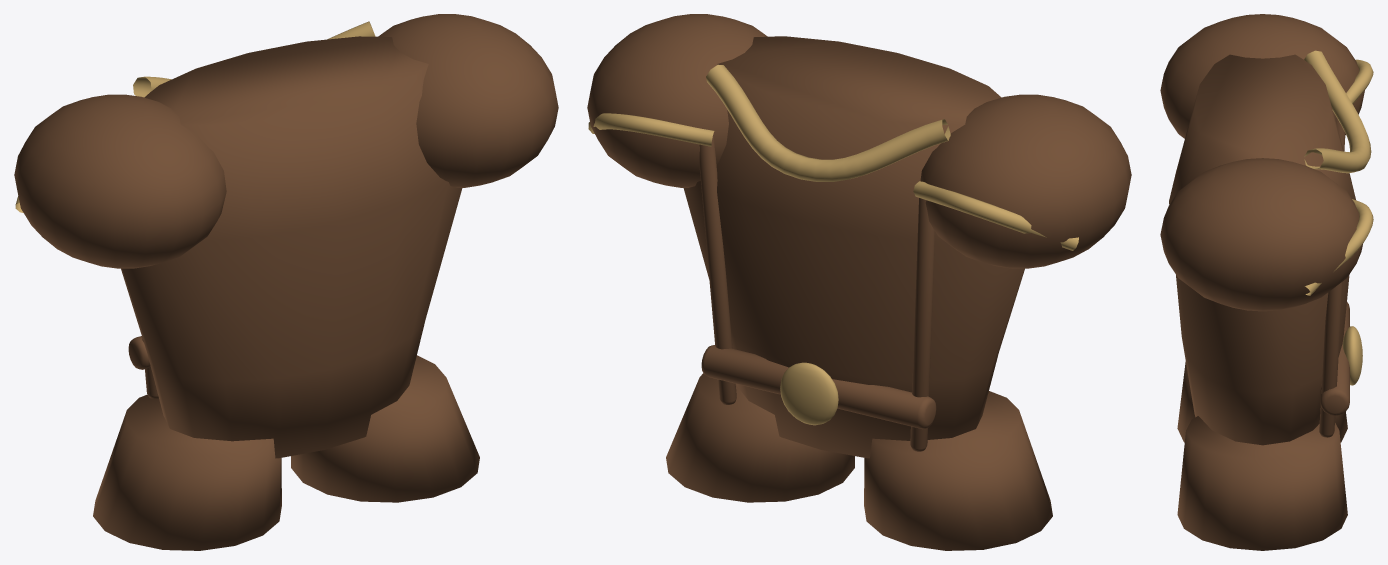
The model's file is leather_vest.glb.
The picture shows the model from 3 angles, left to right: view 1: azimuth 30°, elevation 25°; view 2: azimuth 150°, elevation 25°; view 3: azimuth 270°, elevation 25°; orthographic projection. The views are drawn at different scales.
Parts seen in each view (by area): view 1: Shaped breastplate, Layered pauldron, Layered pauldron.001, Laminated hip guard, Laminated hip guard.001, Neckline; view 2: Shaped breastplate, Layered pauldron, Laminated hip guard, Layered pauldron.001, Laminated hip guard.001, Neckline, Waist belt, Leather fastening.001, Leather fastening, Sunburst clasp, Pauldron trim, Pauldron trim.001; view 3: Shaped breastplate, Layered pauldron.001, Laminated hip guard.001, Layered pauldron, Neckline, Leather fastening.001, Waist belt, Laminated hip guard, Pauldron trim.001, Sunburst clasp, Pauldron trim.
Boxes of the visible parts, x1,y1,x2,y2 form: Shaped breastplate: [121, 36, 462, 458]; Layered pauldron: [14, 94, 226, 268]; Layered pauldron.001: [378, 14, 558, 187]; Laminated hip guard: [93, 394, 281, 550]; Laminated hip guard.001: [291, 355, 479, 502]; Neckline: [133, 21, 375, 97]; Shaped breastplate: [683, 36, 1024, 458]; Layered pauldron: [920, 94, 1131, 268]; Laminated hip guard: [864, 391, 1052, 550]; Layered pauldron.001: [587, 14, 767, 187]; Laminated hip guard.001: [666, 373, 854, 502]; Neckline: [706, 64, 950, 181]; Waist belt: [701, 345, 936, 429]; Leather fastening.001: [699, 136, 736, 404]; Leather fastening: [910, 198, 934, 451]; Sunburst clasp: [780, 362, 838, 425]; Pauldron trim: [913, 181, 1078, 250]; Pauldron trim.001: [588, 113, 714, 146]; Shaped breastplate: [1169, 54, 1355, 445]; Layered pauldron.001: [1160, 158, 1362, 311]; Laminated hip guard.001: [1177, 416, 1347, 550]; Layered pauldron: [1160, 14, 1364, 138]; Neckline: [1304, 50, 1371, 173]; Leather fastening.001: [1319, 282, 1342, 437]; Waist belt: [1320, 302, 1349, 415]; Laminated hip guard: [1177, 361, 1347, 442]; Pauldron trim.001: [1305, 199, 1373, 295]; Sunburst clasp: [1342, 326, 1362, 385]; Pauldron trim: [1346, 59, 1373, 104].
Bounding box in the file's own units: 1.24 × 0.97 × 0.5002.
